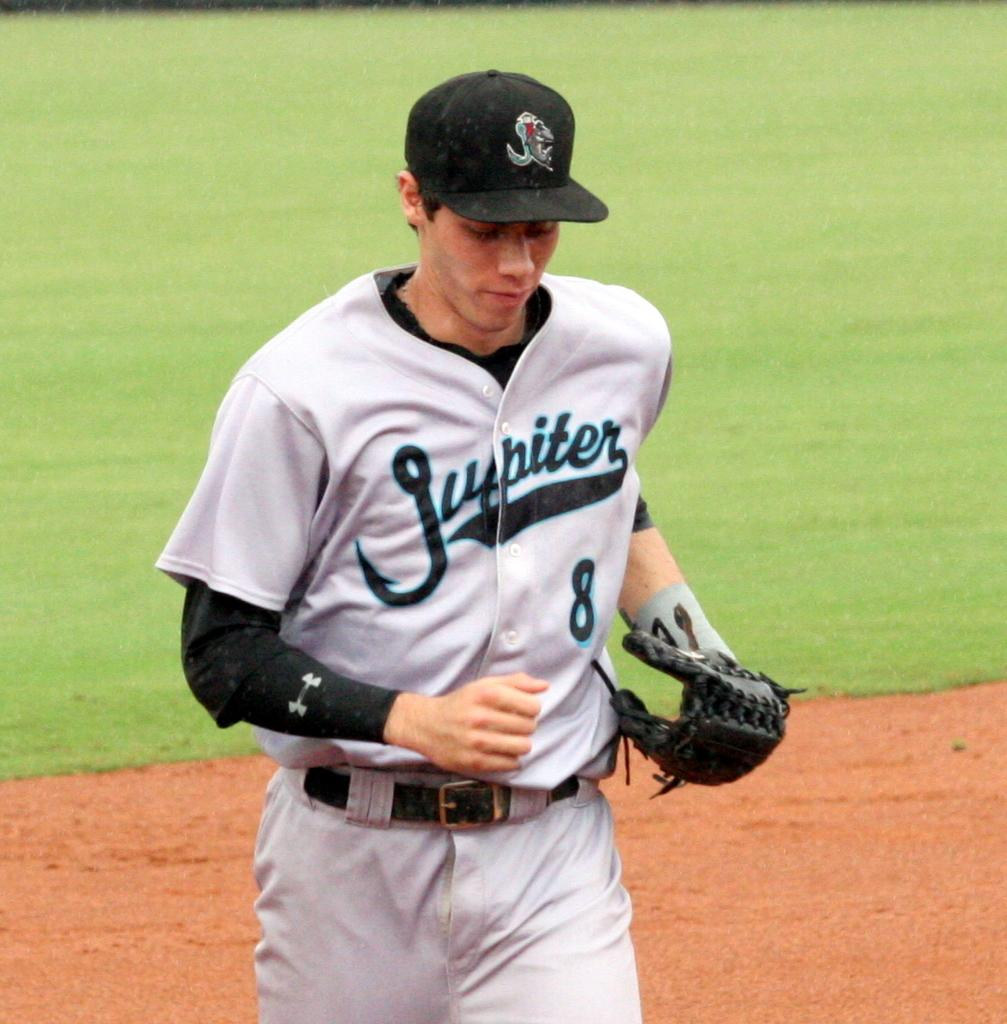Hat: (401, 68, 610, 222)
